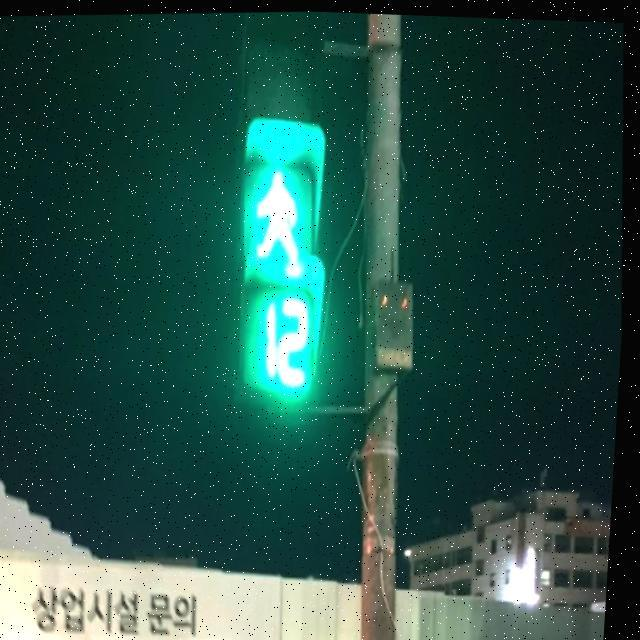green_light: (240, 150, 332, 396)
